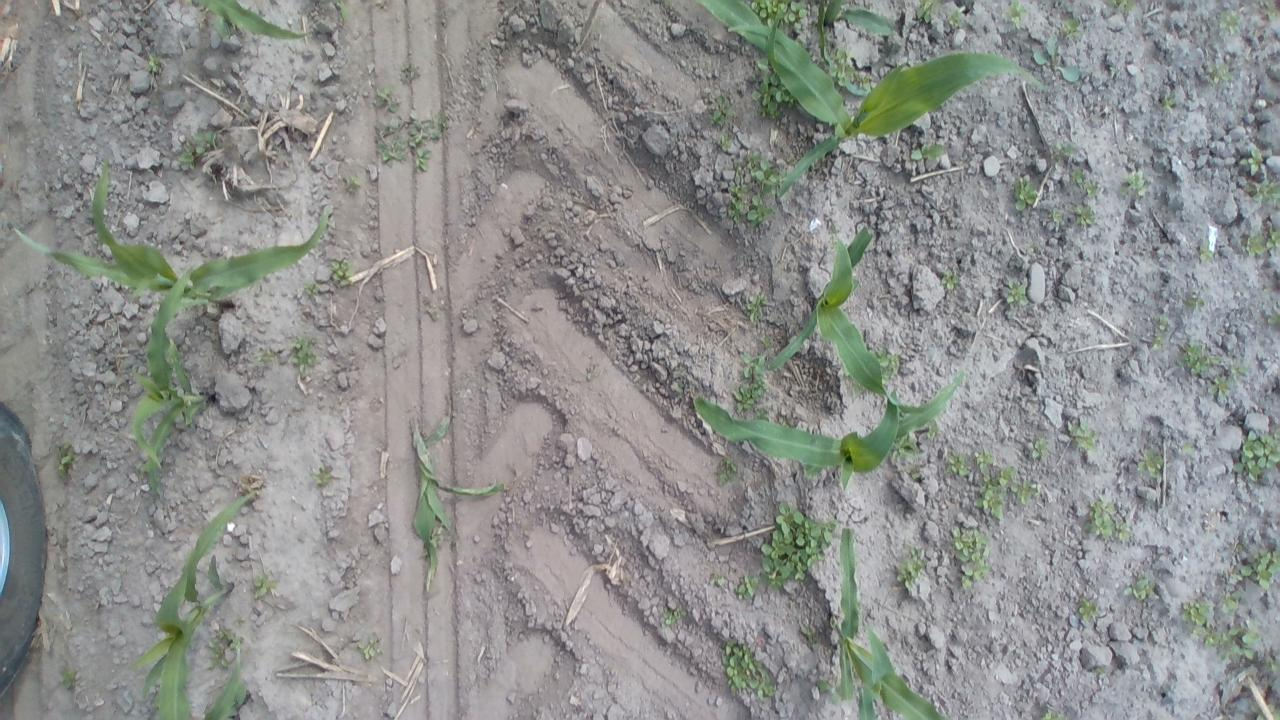Maize: (682, 0, 1035, 201), (8, 160, 334, 307), (682, 370, 978, 491), (137, 481, 263, 720), (753, 219, 904, 415), (818, 520, 949, 719), (129, 260, 213, 506), (172, 0, 318, 48), (808, 0, 916, 52)
Weeds: (372, 63, 452, 174), (764, 496, 840, 588), (944, 446, 1013, 526), (726, 148, 782, 228), (717, 634, 776, 702), (949, 522, 994, 592), (1196, 622, 1260, 666), (1230, 421, 1280, 477), (753, 59, 800, 118), (1031, 35, 1084, 86), (741, 0, 816, 36), (1229, 544, 1280, 592), (821, 47, 869, 97), (910, 0, 979, 34), (1083, 496, 1128, 544), (206, 623, 242, 675), (891, 542, 930, 588), (286, 330, 321, 379), (1178, 337, 1216, 381), (881, 432, 928, 466), (1243, 216, 1280, 259), (729, 380, 769, 417), (700, 89, 740, 125), (1242, 170, 1280, 207), (738, 287, 772, 326), (999, 279, 1035, 315), (1144, 312, 1174, 353), (1122, 570, 1156, 606), (1179, 592, 1213, 628), (1066, 416, 1098, 454), (734, 570, 768, 605), (1216, 4, 1248, 41), (812, 673, 852, 702), (190, 127, 230, 156), (1236, 144, 1272, 176), (911, 141, 948, 172), (306, 462, 344, 492), (50, 444, 76, 487), (710, 452, 739, 490), (1140, 445, 1172, 479), (1068, 166, 1104, 196), (1202, 369, 1234, 402), (136, 46, 168, 79), (1011, 480, 1045, 511), (1009, 176, 1038, 212), (736, 349, 768, 381), (937, 264, 968, 296), (246, 573, 279, 603), (660, 601, 694, 630), (1201, 58, 1236, 86), (1116, 169, 1152, 196), (1074, 592, 1100, 628), (328, 256, 358, 287), (1158, 91, 1191, 119), (1214, 588, 1244, 618), (1224, 354, 1252, 385), (1028, 436, 1054, 468), (873, 351, 899, 382), (1194, 228, 1216, 264), (1072, 200, 1100, 228), (1179, 284, 1207, 312), (1175, 433, 1204, 460), (54, 663, 81, 692), (177, 140, 201, 172), (1034, 700, 1072, 720), (1055, 140, 1088, 163), (1001, 3, 1030, 29), (358, 635, 383, 664), (334, 173, 362, 196), (1044, 202, 1067, 229), (300, 278, 324, 302), (711, 132, 734, 154), (1064, 17, 1082, 45), (1260, 648, 1280, 673)
